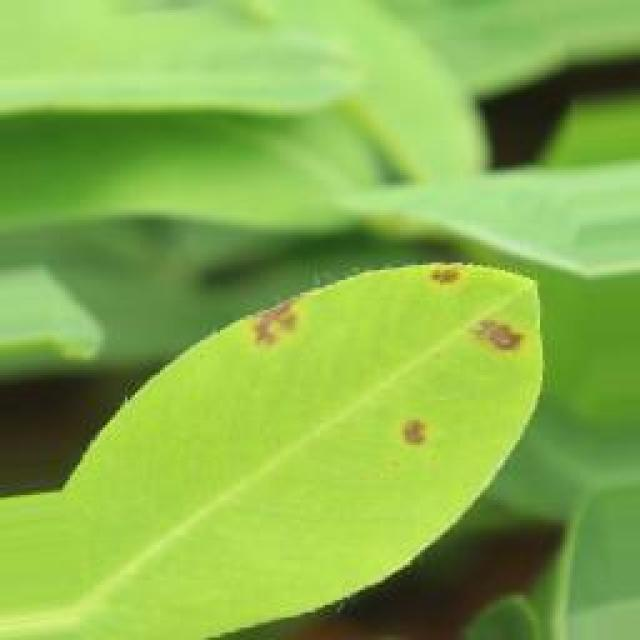Sigatoka: (227, 275, 326, 363), (455, 298, 537, 372), (363, 408, 455, 472), (419, 256, 479, 314)
